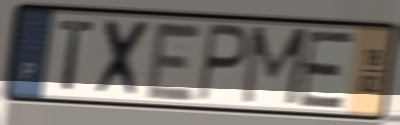E: (144, 18, 205, 104), (296, 29, 358, 111)
M: (237, 24, 313, 110)
P: (194, 21, 252, 106)
T: (56, 18, 98, 94)
X: (92, 16, 155, 101)
